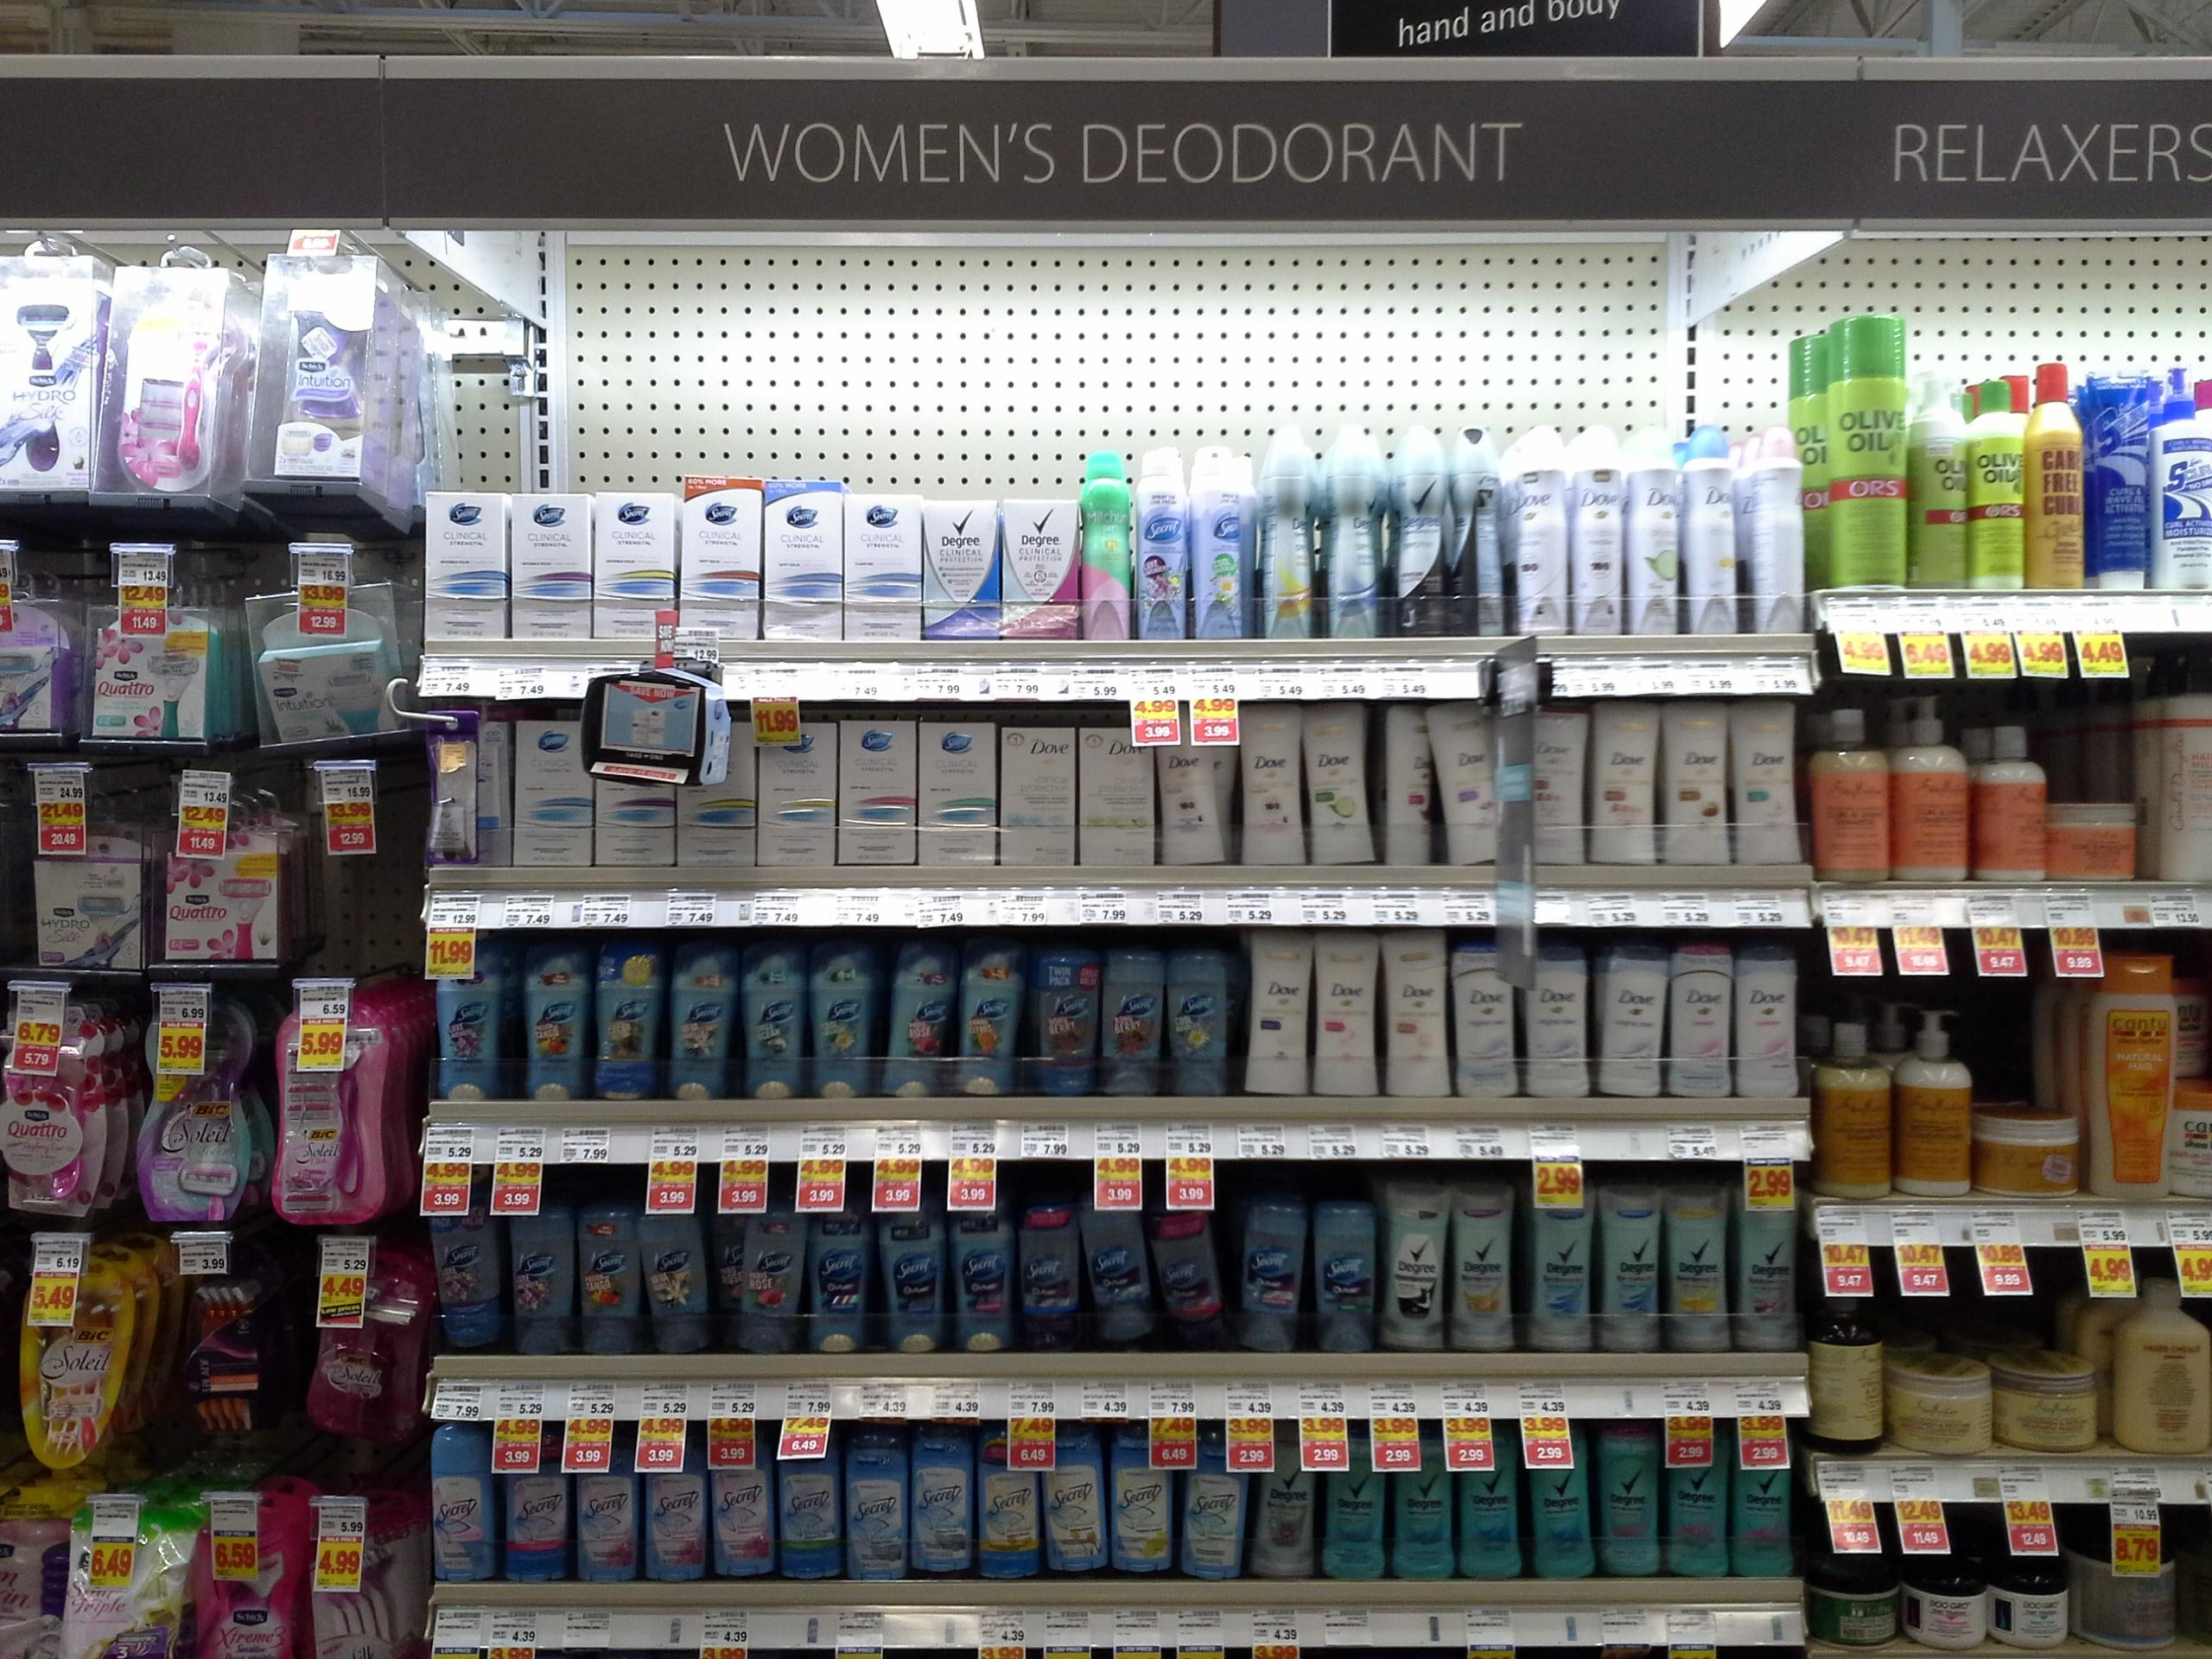misalignment: (1150, 1192, 1235, 1344), (732, 1204, 805, 1347), (888, 946, 954, 1096), (1381, 704, 1439, 875), (1447, 697, 1496, 863)
